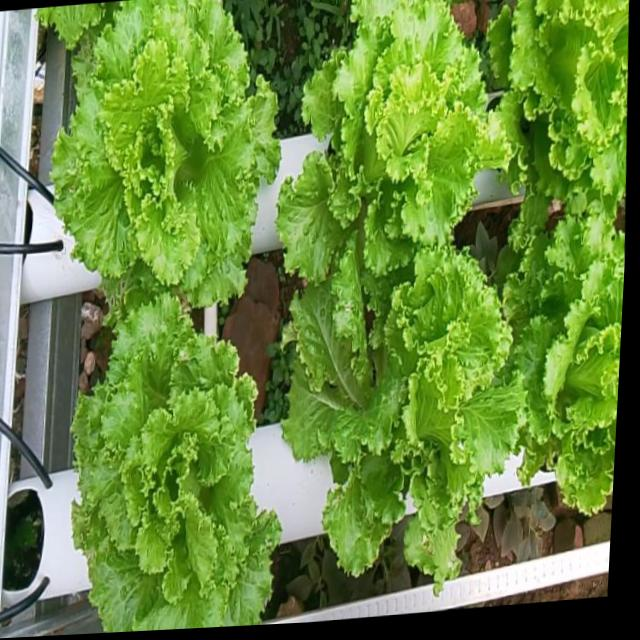Mature: (285, 243, 527, 582), (75, 288, 284, 633), (48, 0, 285, 304), (280, 0, 503, 298), (509, 216, 625, 516), (493, 0, 628, 216)
